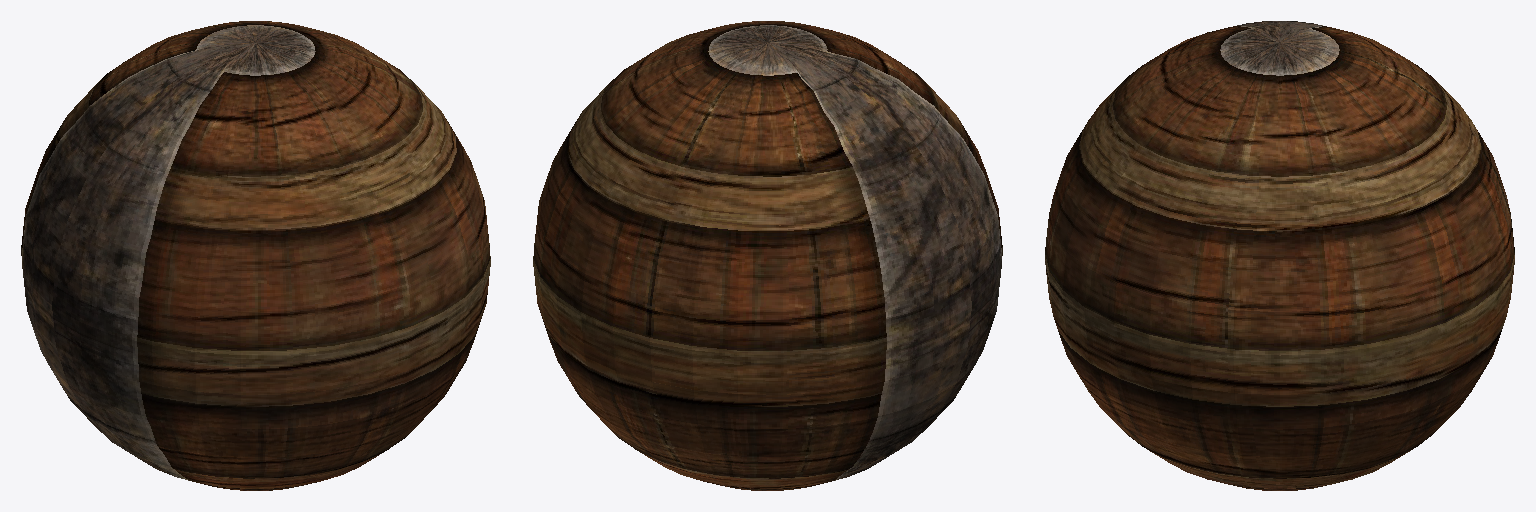
The picture shows the model from 3 angles: view 1: azimuth 30°, elevation 25°; view 2: azimuth 150°, elevation 25°; view 3: azimuth 270°, elevation 25°; orthographic projection.
Parts seen in each view (by area): view 1: Sphere; view 2: Sphere; view 3: Sphere.
Boxes of the visible parts, x1,y1,x2,y2 form: Sphere: [21, 21, 490, 490]; Sphere: [533, 21, 1002, 490]; Sphere: [1045, 21, 1514, 490].
Bounding box in the file's own units: 2 × 2 × 2.
1 materials, 1 textured.